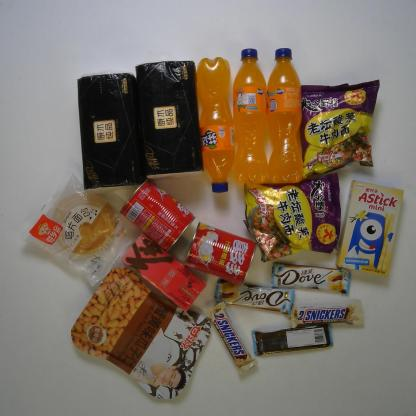Canned Food: (118, 175, 198, 255), (183, 220, 257, 285)
Chocolate: (202, 301, 259, 377), (211, 278, 296, 315), (270, 261, 353, 297), (251, 321, 334, 357), (289, 299, 365, 330)
Dessert: (20, 170, 144, 288), (334, 180, 404, 278)
Dried Fruit: (69, 266, 212, 400)
Drink: (194, 55, 236, 194), (265, 47, 304, 184), (231, 47, 269, 186)
Instant Drink: (120, 231, 208, 313)
Instant Noodles: (238, 171, 341, 263), (287, 78, 381, 178)
Tissue: (75, 71, 152, 192), (134, 59, 204, 180)
